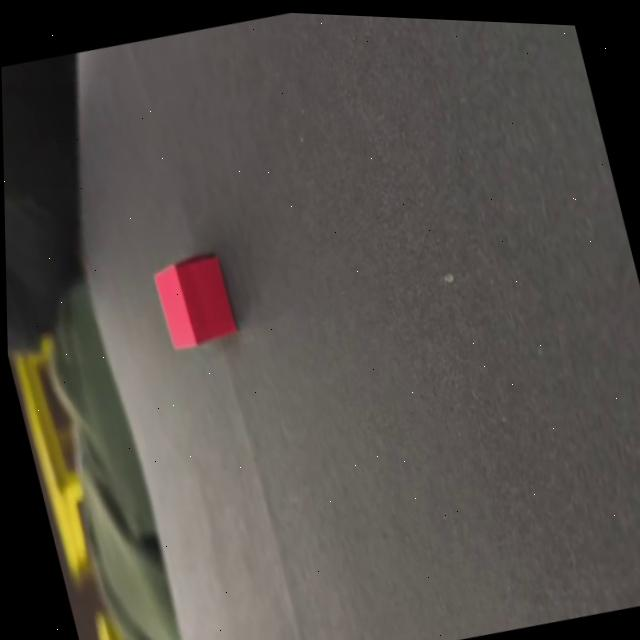red block: (148, 246, 239, 353)
